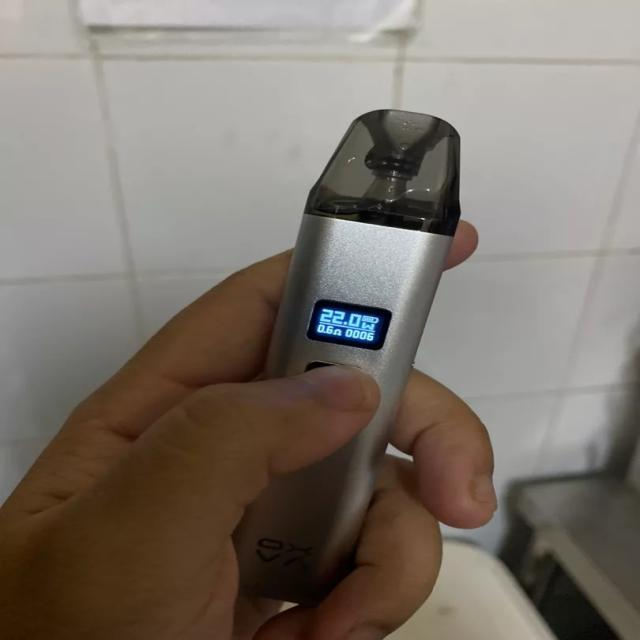Hazard: (248, 108, 464, 603)
